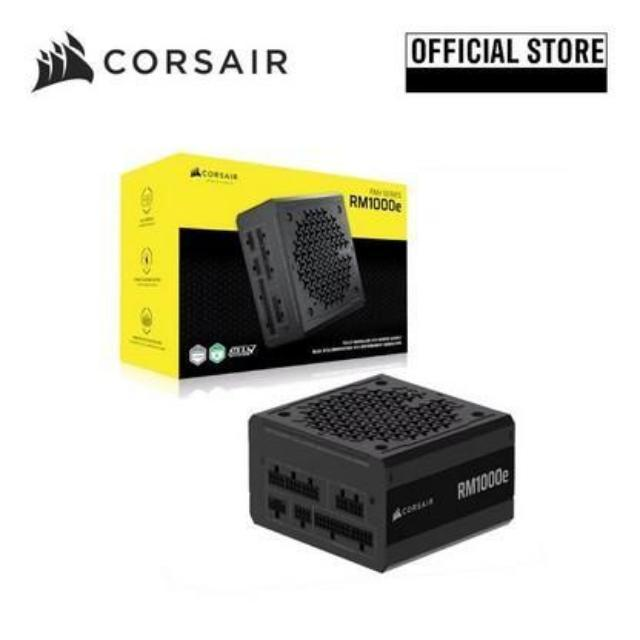PSU: (246, 368, 523, 572)
